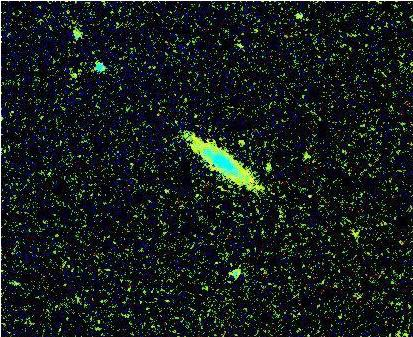star: (227, 130, 257, 160)
